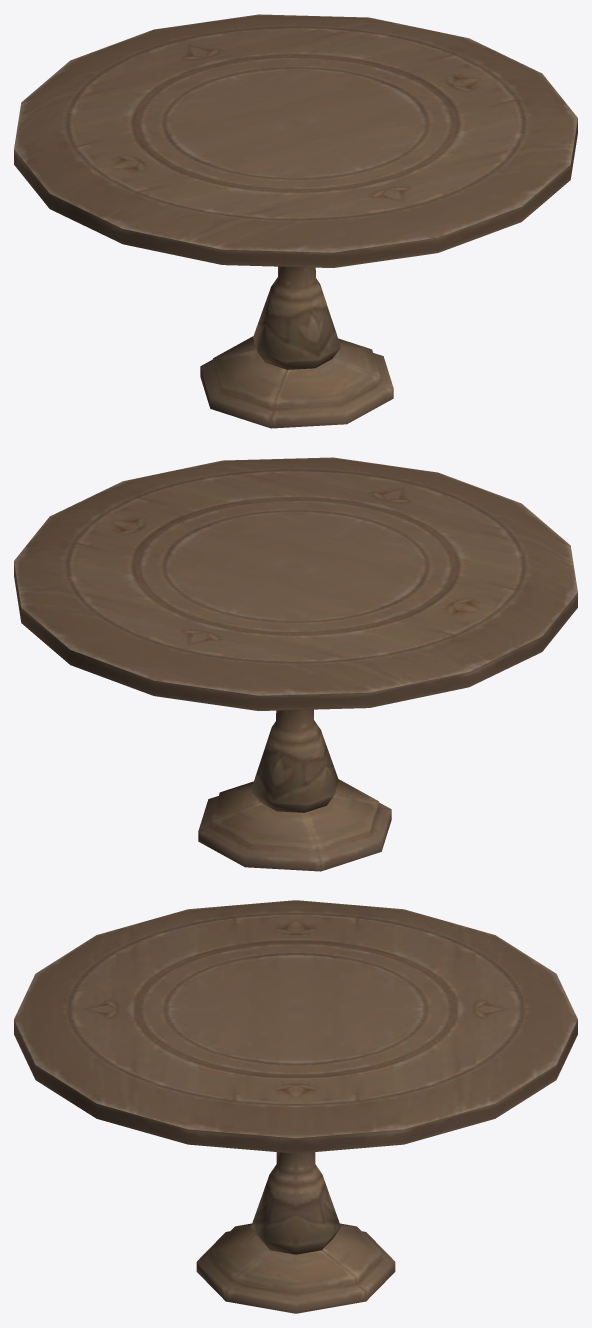
The model's file is Homeworld_Interior_Xm_Table_Prop_NorCicle_01_Lod0.fbx.
3 views of the same model, one above another, from view 1: azimuth 30°, elevation 25°; view 2: azimuth 150°, elevation 25°; view 3: azimuth 270°, elevation 25° (orthographic).
Visible parts, largest first — view 1: Area_Xm_Prop_XKC_Table_02_Lod0; view 2: Area_Xm_Prop_XKC_Table_02_Lod0; view 3: Area_Xm_Prop_XKC_Table_02_Lod0.
Part boxes in pixels (box(x1,y1,x2,y2)): Area_Xm_Prop_XKC_Table_02_Lod0: box(14, 14, 577, 428); Area_Xm_Prop_XKC_Table_02_Lod0: box(14, 457, 577, 871); Area_Xm_Prop_XKC_Table_02_Lod0: box(14, 900, 577, 1313).
Bounding box in the file's own units: 1.5 × 0.7695 × 1.5.
